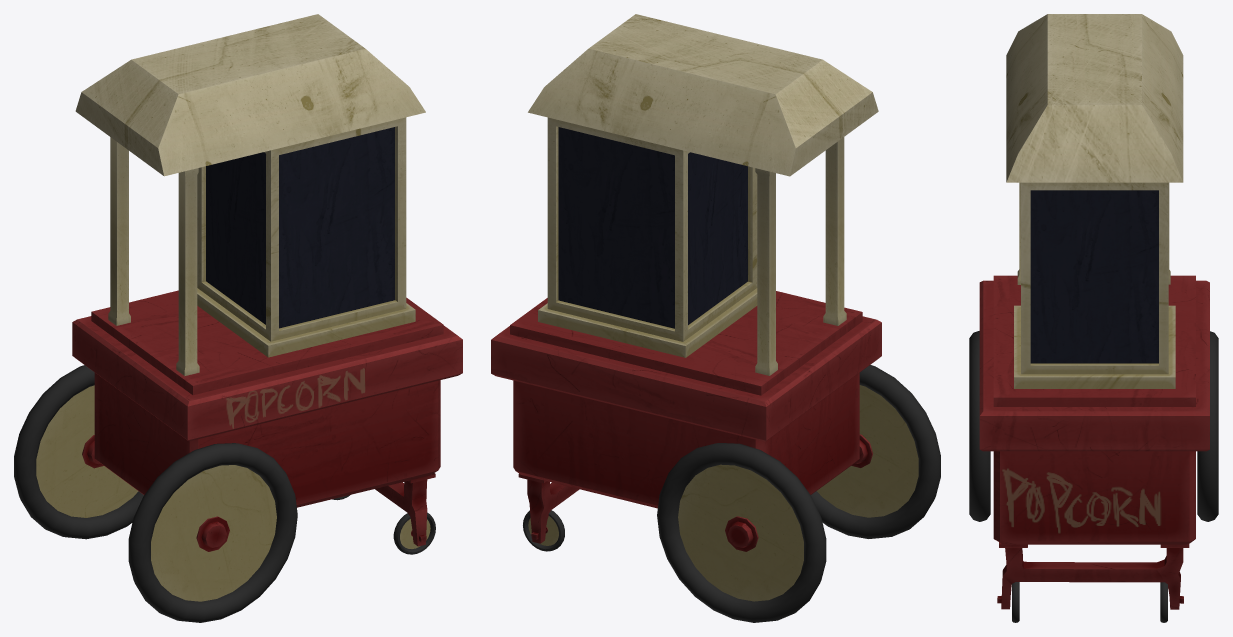
Rendered from popcorn_stand.fbx.
3 renders of one model, left to right at view 1: azimuth 30°, elevation 25°; view 2: azimuth 150°, elevation 25°; view 3: azimuth 270°, elevation 25°, orthographic.
Visible parts, largest first — view 1: popcorn_stand; view 2: popcorn_stand; view 3: popcorn_stand.
Boxes of the visible parts, x1,y1,x2,y2 form: popcorn_stand: (14,14,462,622); popcorn_stand: (491,14,940,622); popcorn_stand: (969,14,1218,622).
Bounding box in the file's own units: 274 × 394 × 178.
1 material, 1 textured.
